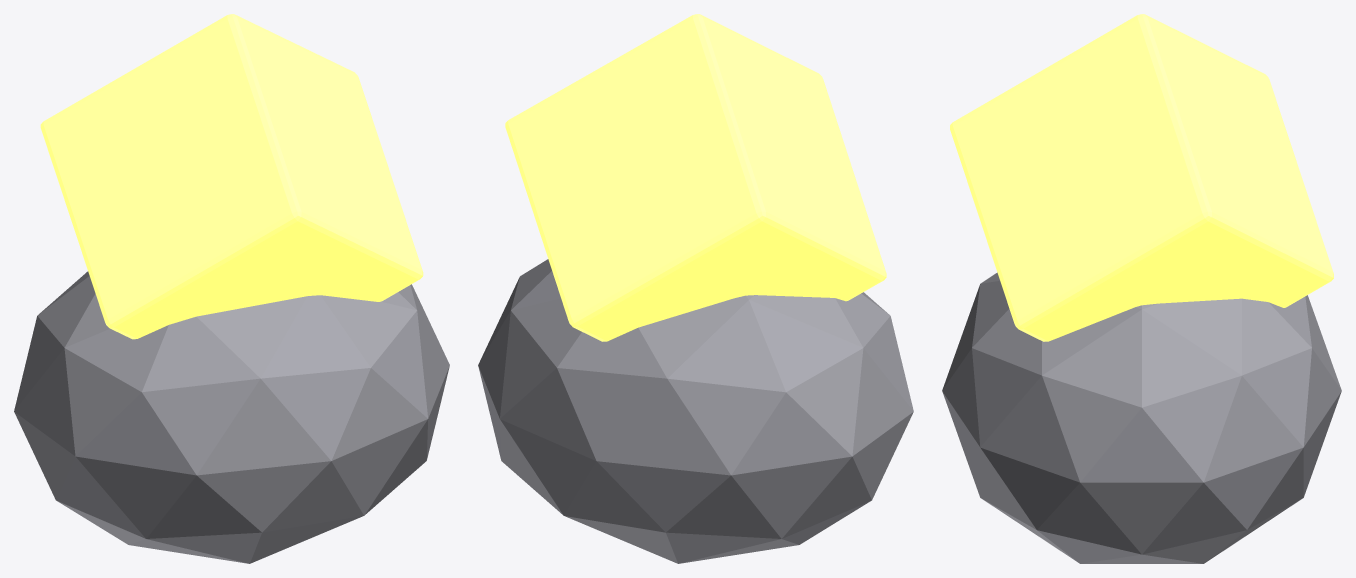
File: OreTier8.fbx
3 views of the same model, side by side, from view 1: azimuth 30°, elevation 25°; view 2: azimuth 150°, elevation 25°; view 3: azimuth 270°, elevation 25° (orthographic).
Parts seen in each view (by area): view 1: Rock, Gem; view 2: Rock, Gem; view 3: Rock, Gem.
Part boxes in pixels (x1,y1,x2,y2): Rock: [14, 271, 449, 563]; Gem: [40, 14, 423, 339]; Rock: [478, 259, 913, 563]; Gem: [505, 14, 886, 341]; Rock: [942, 272, 1341, 563]; Gem: [950, 14, 1333, 341].
Bounding box in the file's own units: 2.4 × 3.23 × 2.2.
